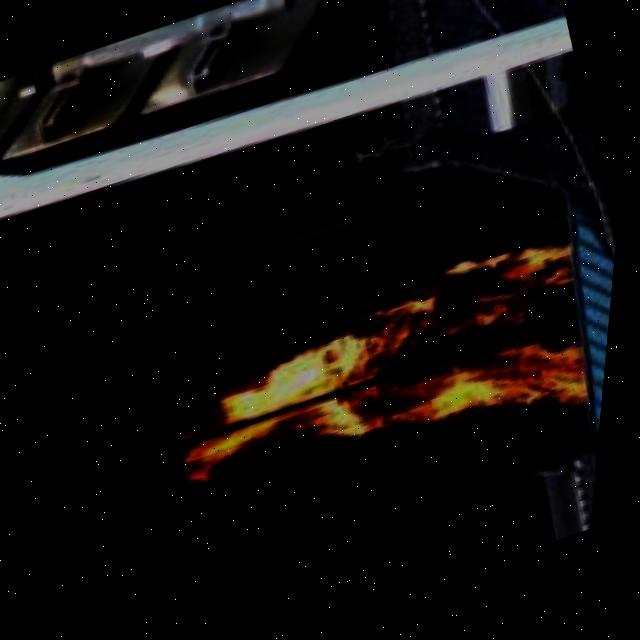Fire: (167, 233, 616, 526)
